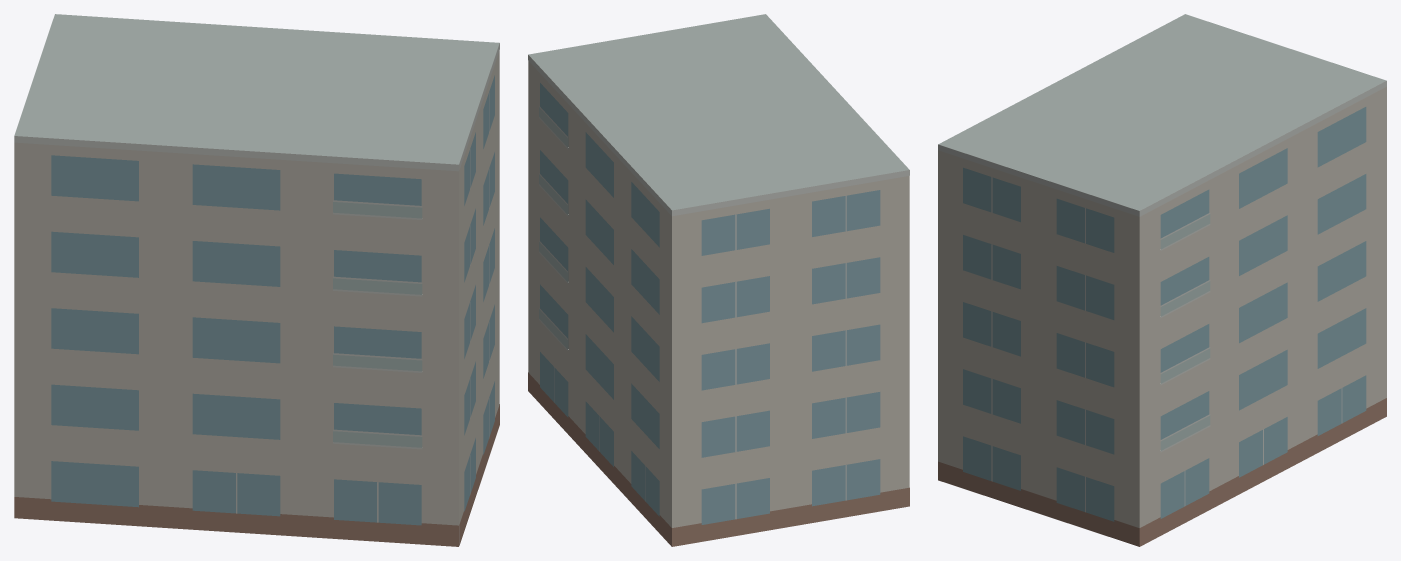
The model's file is survey-upis-32995823.glb.
3 views of the same model, side by side, from view 1: azimuth 30°, elevation 25°; view 2: azimuth 150°, elevation 25°; view 3: azimuth 270°, elevation 25° (orthographic). The views are drawn at different scales.
Visible parts, largest first — view 1: survey-upis-32995823.tmp; view 2: survey-upis-32995823.tmp; view 3: survey-upis-32995823.tmp.
Boxes of the visible parts, x1,y1,x2,y2 form: survey-upis-32995823.tmp: [14, 14, 499, 546]; survey-upis-32995823.tmp: [528, 14, 909, 546]; survey-upis-32995823.tmp: [938, 14, 1386, 546].
Bounding box in the file's own units: 17.62 × 14 × 16.96.
